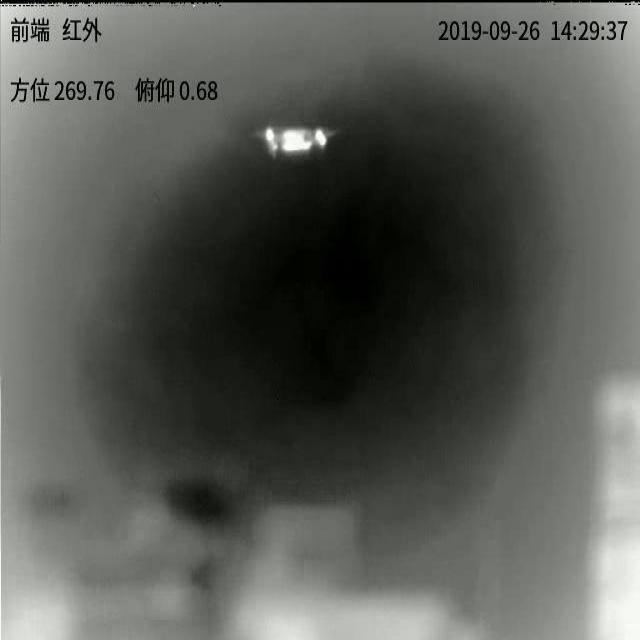drone: (264, 127, 335, 157)
